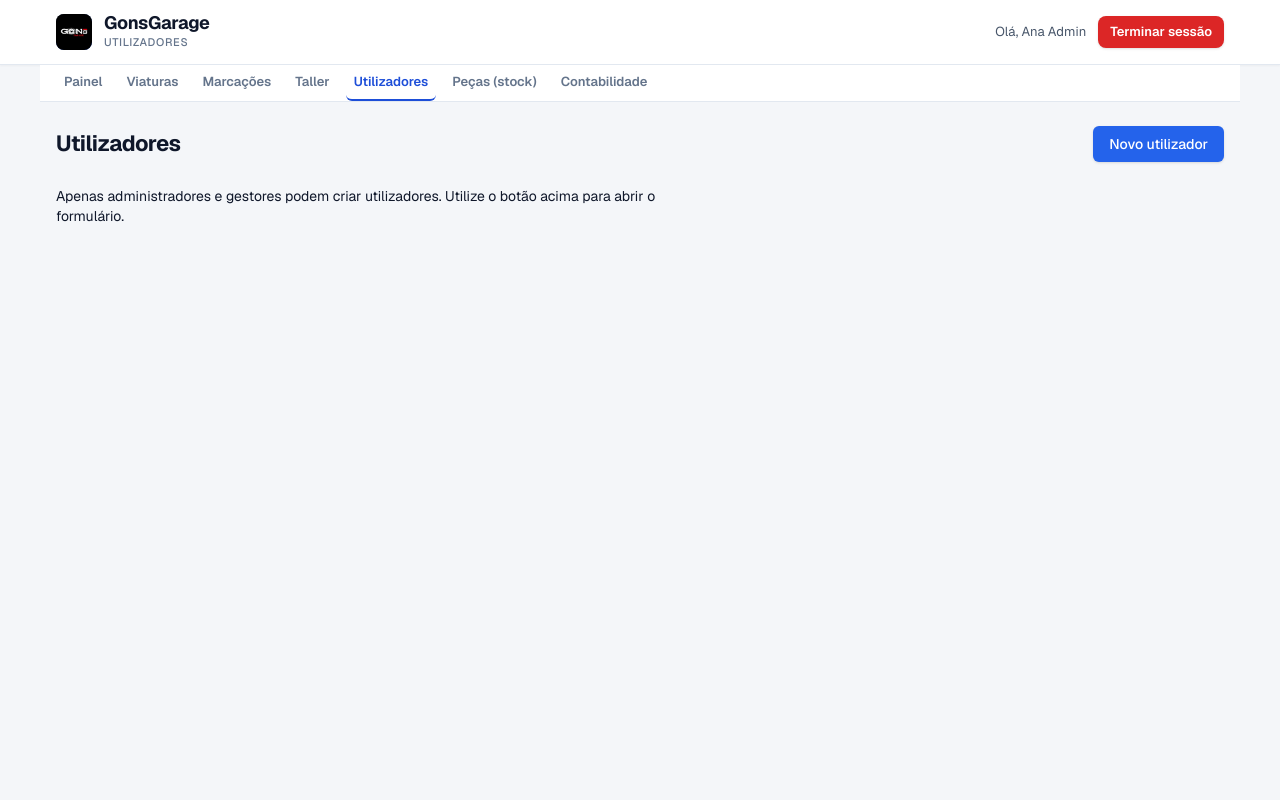
Test: AdminUsersPage › opens create dialog from toolbar
Click the button "Novo utilizador": {"x": 1159, "y": 144} left=1093, top=126, right=1224, bottom=162
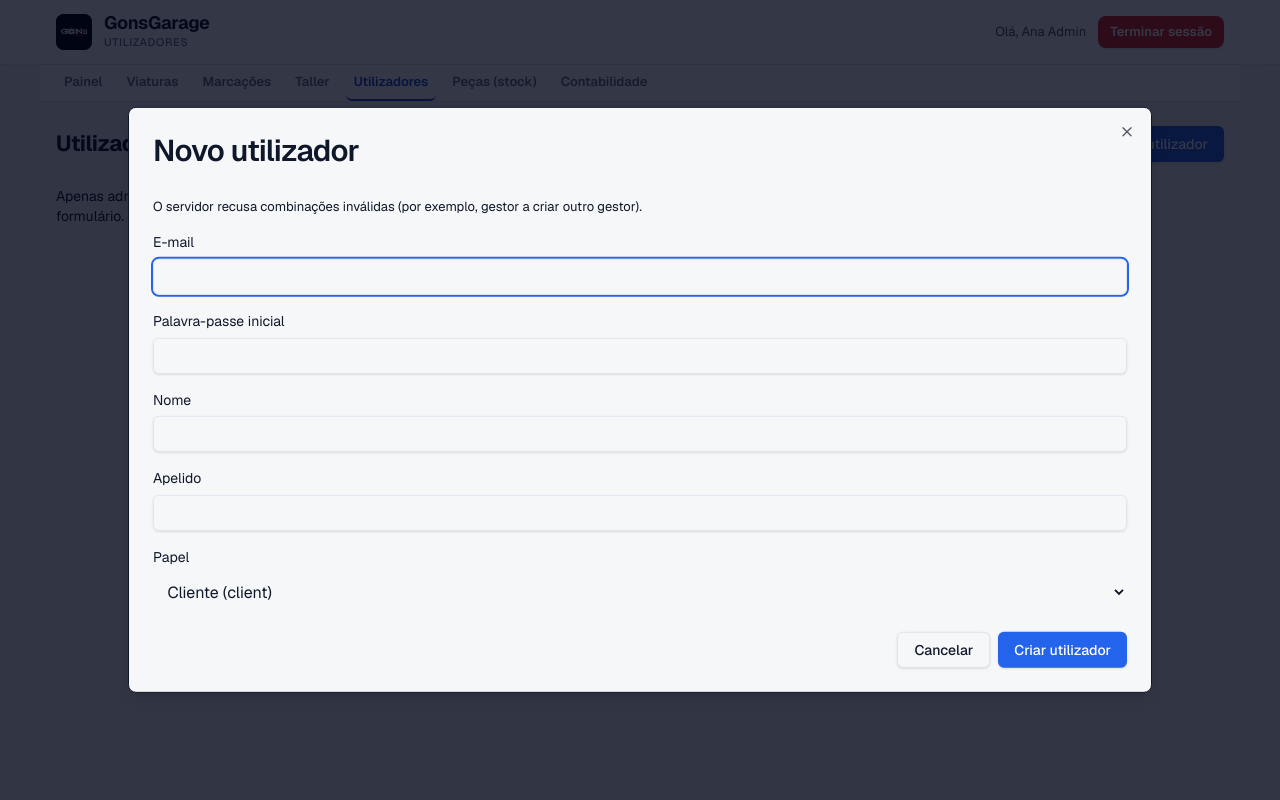
Check: the dialog is shown, box left=128, top=107, right=1152, bottom=693
Check: the heading "Novo utilizador" is shown, box left=153, top=131, right=359, bottom=170
Check: the button "Cancelar" is shown, box left=897, top=632, right=990, bottom=668
